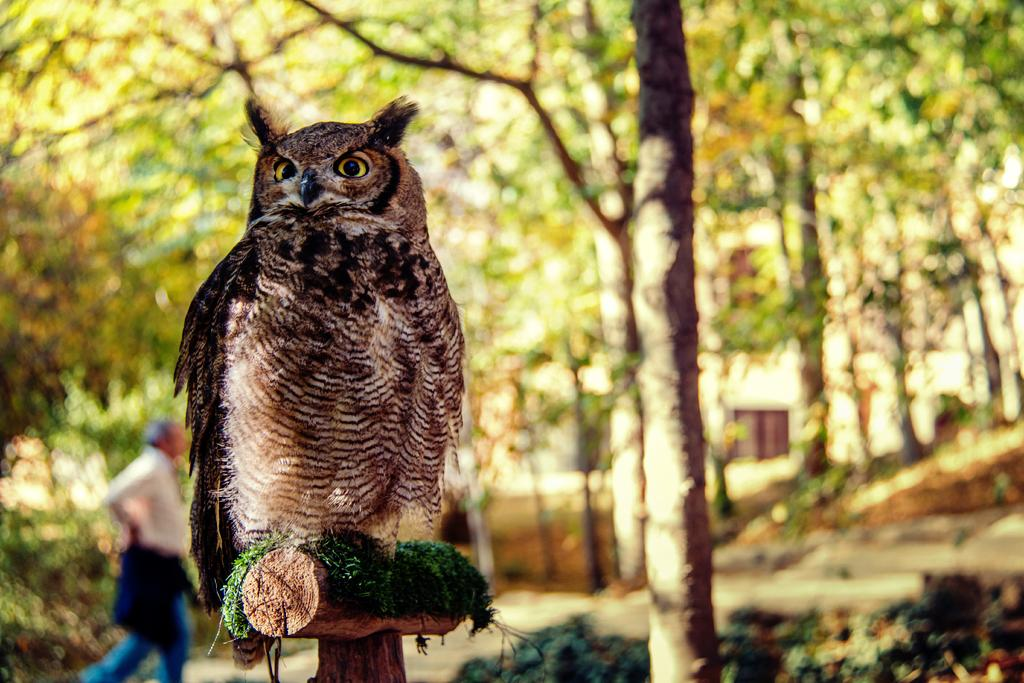Owl: (171, 90, 467, 676)
